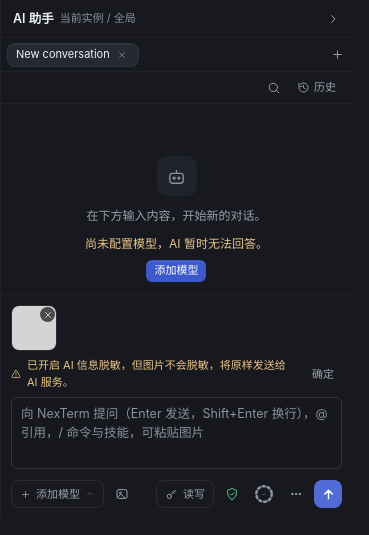
Test case: AiSidebar image paste and attachment › hides the privacy image notice for good once acknowledged
Click the button "确定": (323, 374) [304,363,342,385]
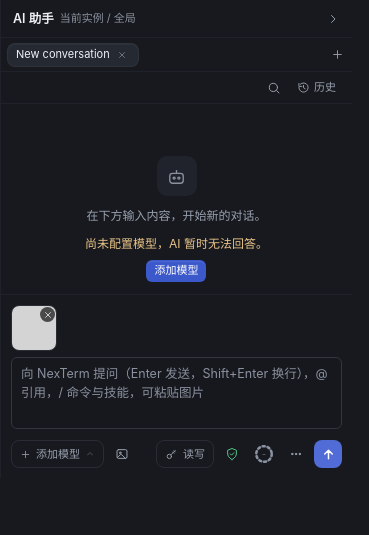
Check: the text "已开启 AI 信息脱敏，但图片不会脱敏，将原样发送给 AI 服务。" is gone
